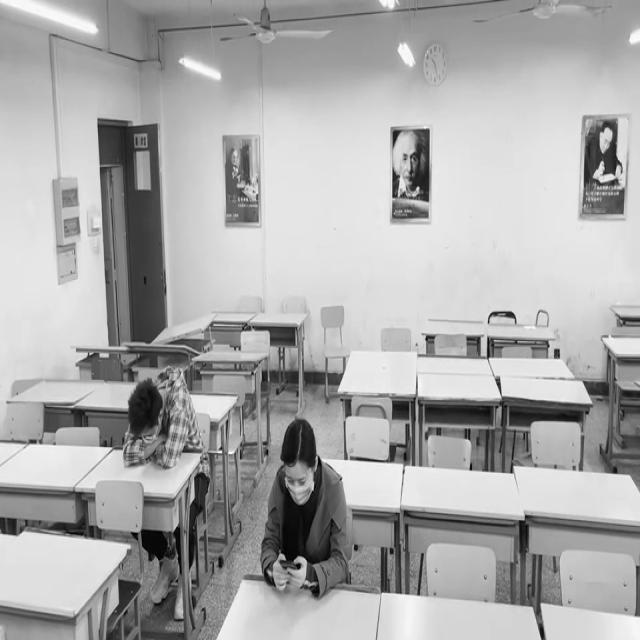phone: (259, 415, 346, 594)
sleep: (121, 369, 186, 467)
